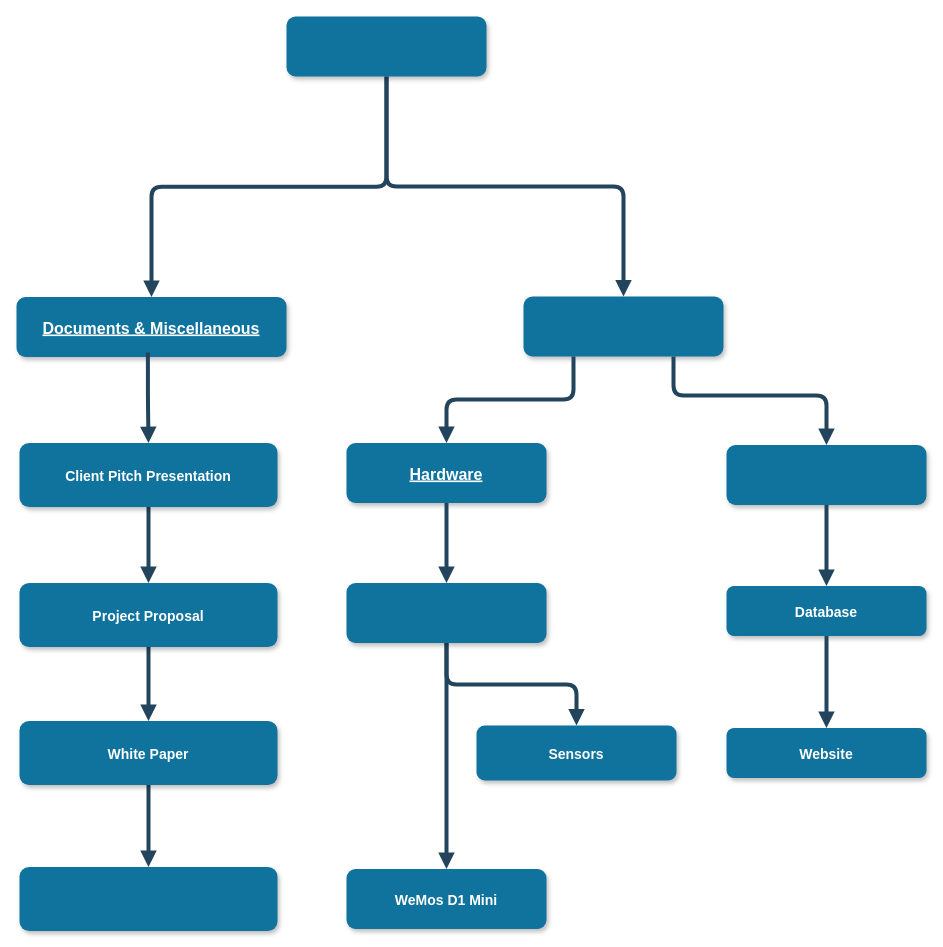
The diagram is 943 pixels wide and 947 high, and some of its shapes have lost their labels. Each missing label, with the centre of its shape:
"Arduino UNO" belongs at point 447,614.
"Products to be delivered" belongs at point 387,47.
"Software" belongs at point 827,476.
"Software & Hardware" belongs at point 624,327.
"User Manual" belongs at point 149,900.
